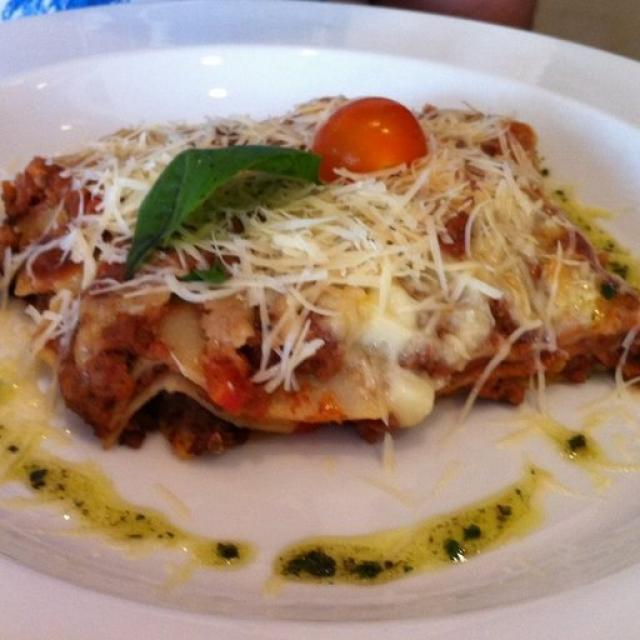Lasagna: (77, 156, 625, 445)
